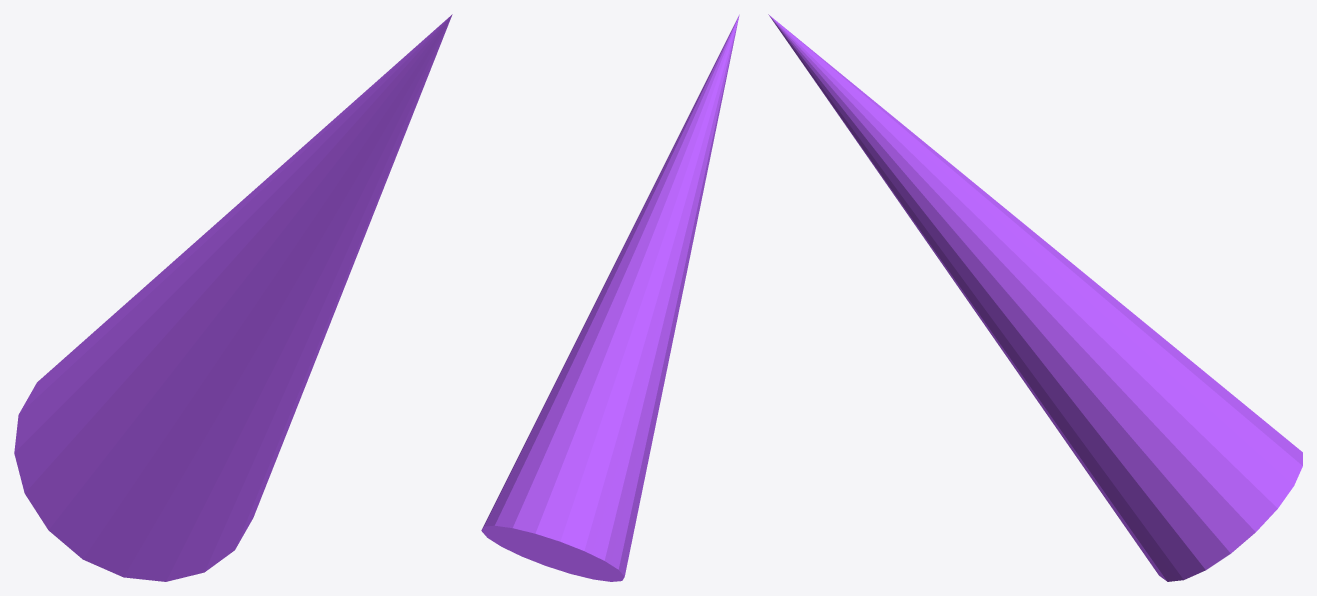
File: Unicorn Horn.fbx
The picture shows the model from 3 angles, left to right: view 1: azimuth 30°, elevation 25°; view 2: azimuth 150°, elevation 25°; view 3: azimuth 270°, elevation 25°; orthographic projection. The views are drawn at different scales.
Parts seen in each view (by area): view 1: unicorn horn; view 2: unicorn horn; view 3: unicorn horn.
Part boxes in pixels (x1=…): unicorn horn: x1=14, y1=14, x2=452, y2=581; unicorn horn: x1=481, y1=14, x2=739, y2=581; unicorn horn: x1=768, y1=14, x2=1302, y2=581.
Bounding box in the file's own units: 60 × 195 × 171.
